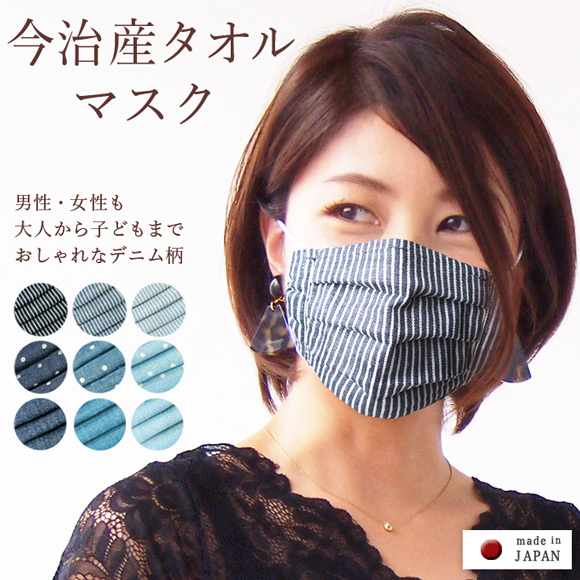mask: (283, 242, 507, 422)
